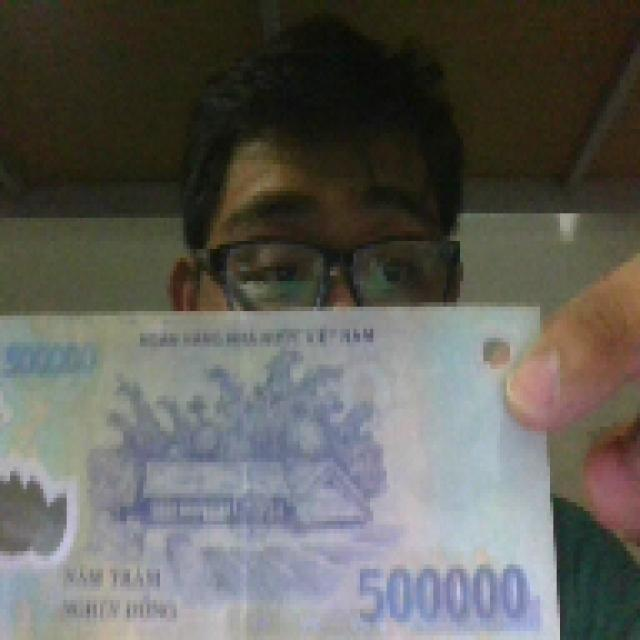500 000 VND: (0, 298, 567, 636)
